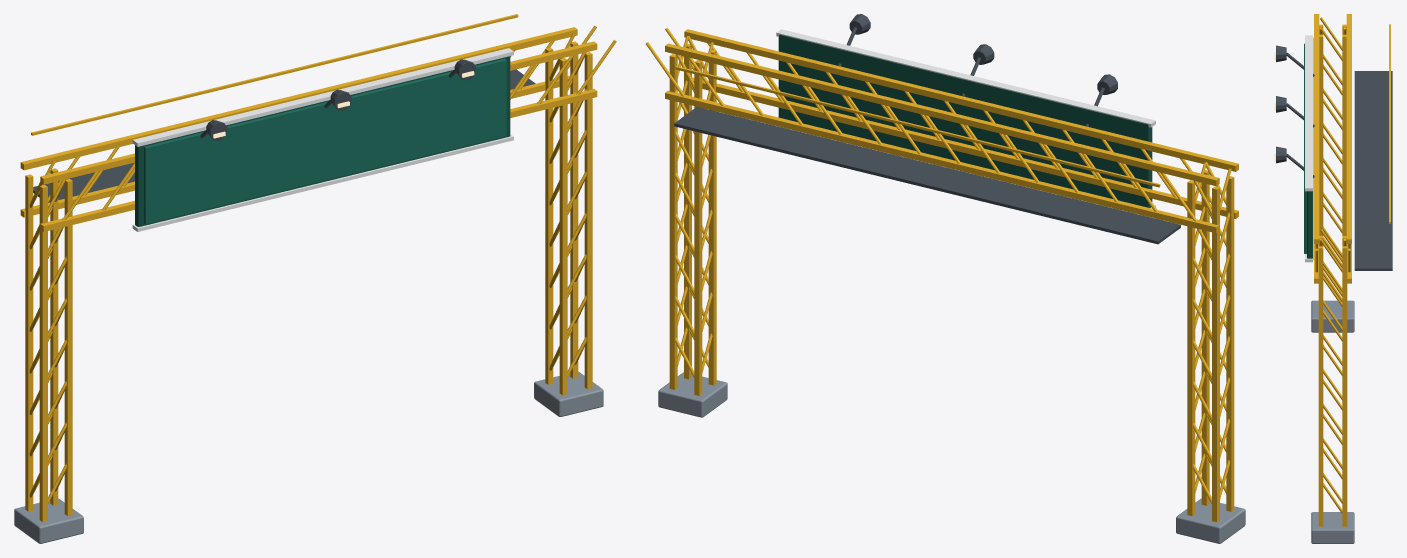
File: rt_sign_gantry.glb
3 views of the same model, side by side, from view 1: azimuth 30°, elevation 25°; view 2: azimuth 150°, elevation 25°; view 3: azimuth 270°, elevation 25° (orthographic). The views are drawn at different scales.
Parts seen in each view (by area): view 1: rt_sign_gantry_body; view 2: rt_sign_gantry_body; view 3: rt_sign_gantry_body.
Part boxes in pixels (box(x1,y1,x2,y2)): rt_sign_gantry_body: box(14, 14, 616, 543); rt_sign_gantry_body: box(645, 14, 1245, 543); rt_sign_gantry_body: box(1274, 14, 1392, 543).
Bounding box in the file's own units: 10.27 × 6.76 × 2.18.
